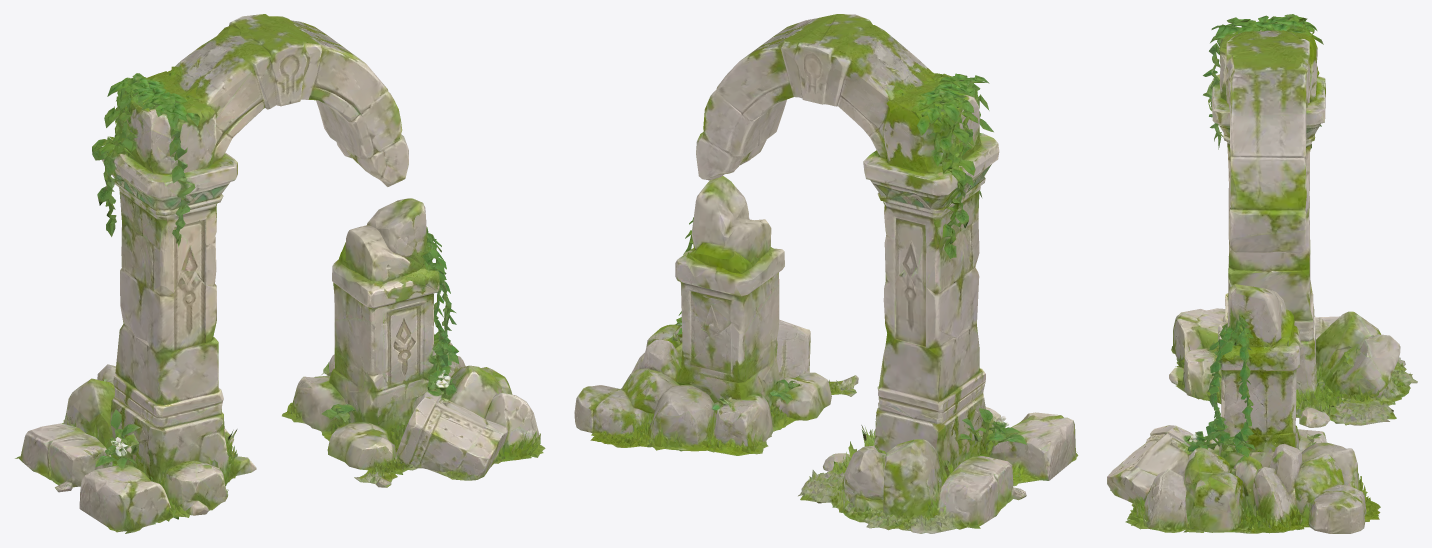
Rendered from arch.glb.
The picture shows the model from 3 angles, left to right: view 1: azimuth 30°, elevation 25°; view 2: azimuth 150°, elevation 25°; view 3: azimuth 270°, elevation 25°; orthographic projection. The views are drawn at different scales.
Parts seen in each view (by area): view 1: Mesh_0; view 2: Mesh_0; view 3: Mesh_0.
Boxes of the visible parts, x1=… form: Mesh_0: x1=15, y1=14, x2=545, y2=533; Mesh_0: x1=574, y1=14, x2=1078, y2=533; Mesh_0: x1=1107, y1=14, x2=1417, y2=533.
Bounding box in the file's own units: 1.88 × 1.79 × 1.29.
Materials: 1 (1 with a texture image).
